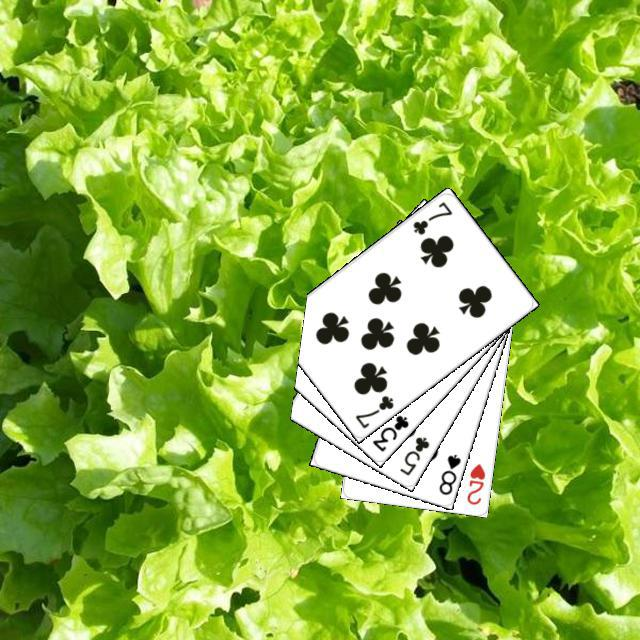2h: (462, 459, 487, 507)
3c: (367, 410, 410, 454)
5c: (395, 432, 431, 477)
7c: (350, 390, 396, 430), (408, 197, 454, 237)
8s: (434, 449, 463, 497)
